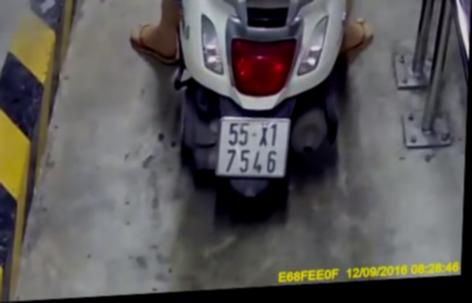License_Plate: (210, 108, 299, 187)
